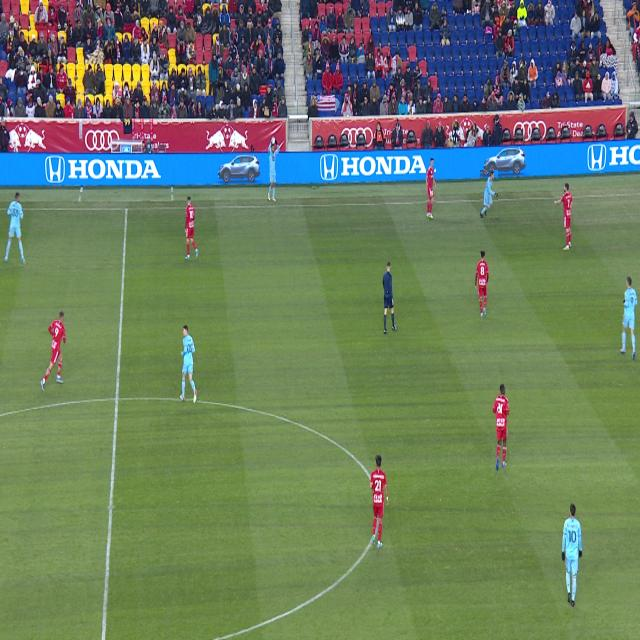player: (562, 503, 582, 607), (41, 311, 66, 391), (370, 455, 388, 549), (4, 192, 26, 265), (620, 276, 637, 360), (493, 383, 509, 471), (180, 326, 197, 404), (555, 183, 573, 251), (475, 251, 489, 318), (185, 196, 199, 259), (480, 171, 498, 218), (426, 159, 436, 219)
referee: (383, 261, 397, 334)
